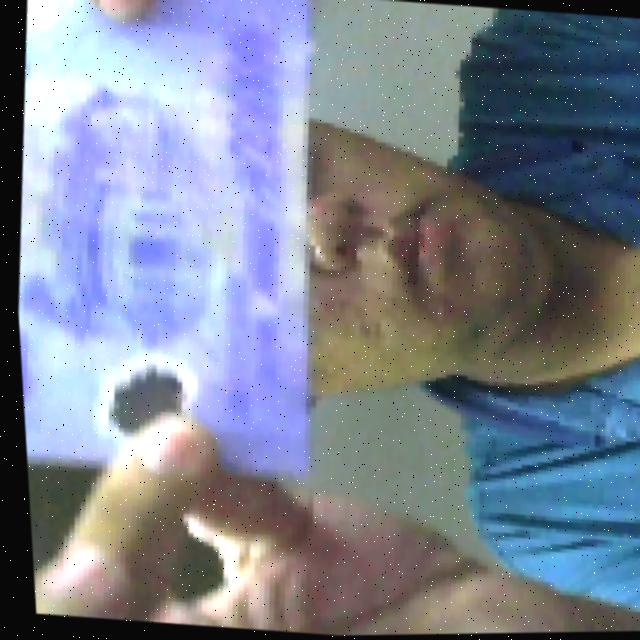20 000 VND: (0, 0, 345, 498)
